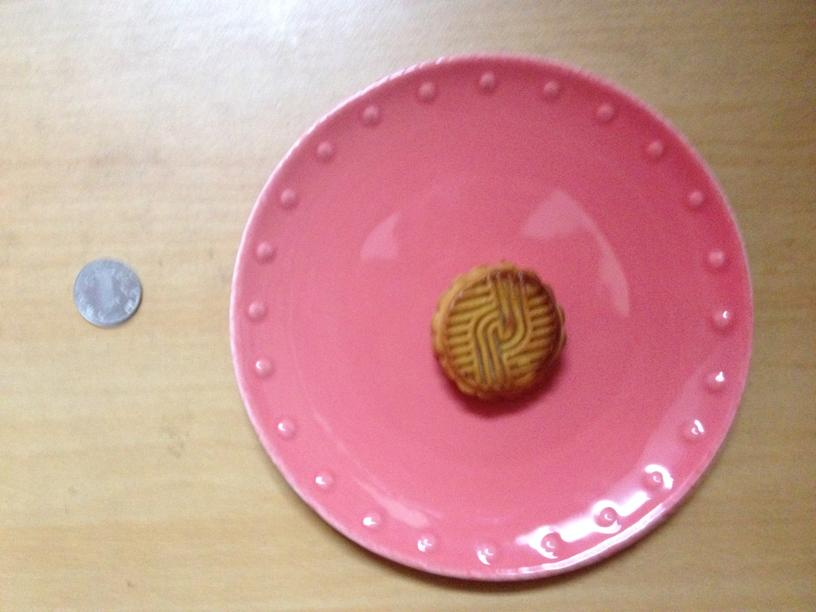coin: (74, 257, 143, 327)
mooncake: (436, 263, 564, 401)
